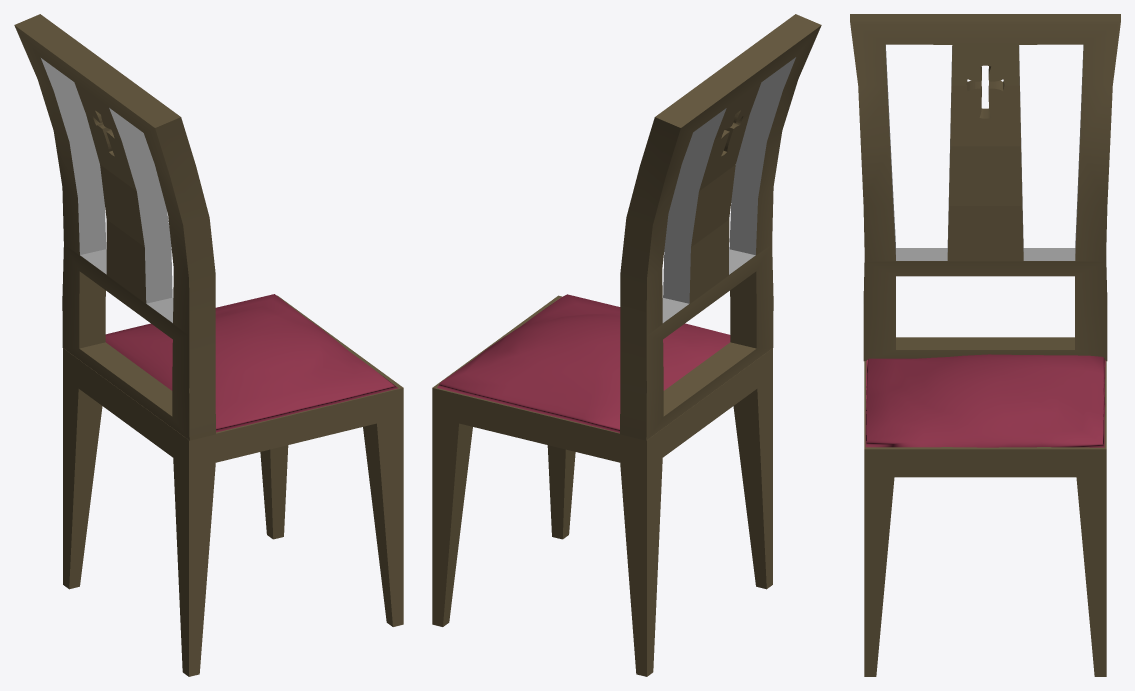
File: chair.fbx
3 renders of one model, left to right at view 1: azimuth 30°, elevation 25°; view 2: azimuth 150°, elevation 25°; view 3: azimuth 270°, elevation 25°, orthographic. The views are drawn at different scales.
Parts seen in each view (by area): view 1: polySurface1, pCube1, pSphere1; view 2: polySurface1, pCube1, pSphere1; view 3: polySurface1, pSphere1, pCube1.
Part boxes in pixels (bbox=[...]): polySurface1: bbox=[14, 14, 215, 440]; pCube1: bbox=[63, 295, 403, 676]; pSphere1: bbox=[105, 294, 398, 432]; polySurface1: bbox=[620, 14, 821, 440]; pCube1: bbox=[432, 295, 772, 676]; pSphere1: bbox=[437, 294, 730, 432]; polySurface1: bbox=[850, 14, 1120, 360]; pSphere1: bbox=[865, 354, 1105, 447]; pCube1: bbox=[864, 361, 1106, 676].
Bounding box in the file's own units: 4.72 × 10.01 × 4.49.
